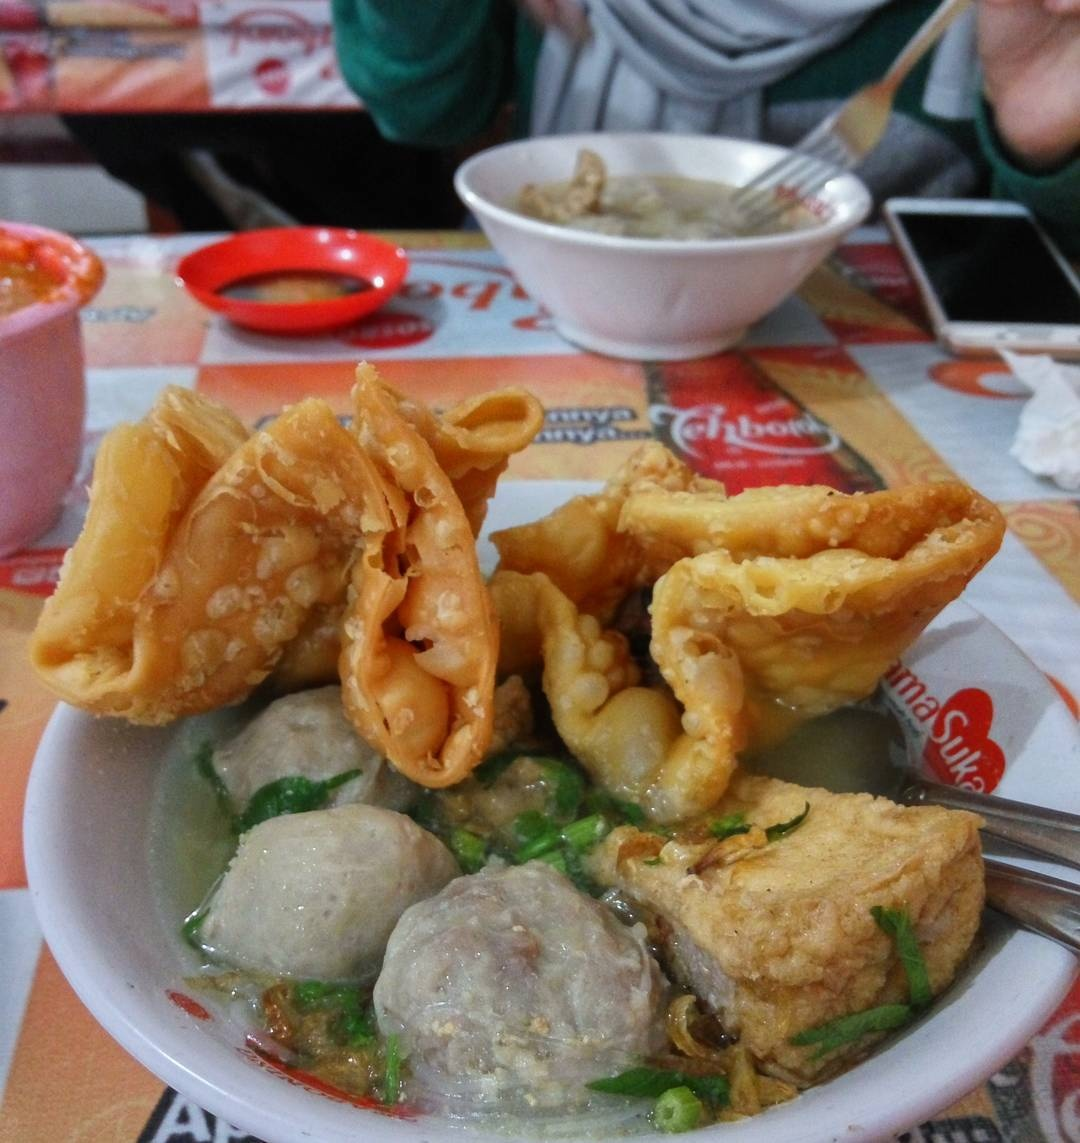bakso_malang: (33, 358, 1011, 1128)
